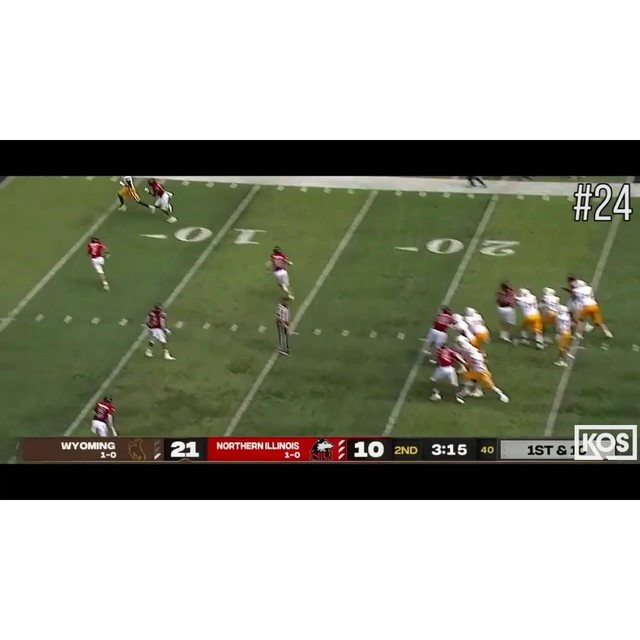american-football-player: (461, 345, 509, 404), (573, 279, 613, 341), (428, 343, 465, 403), (143, 302, 175, 362), (515, 287, 545, 349), (494, 280, 520, 342), (422, 306, 454, 356), (267, 246, 296, 300), (552, 305, 577, 367), (86, 236, 111, 292), (146, 178, 176, 222), (90, 394, 117, 437), (117, 176, 148, 212), (464, 307, 491, 346), (539, 286, 561, 324)
referee: (274, 297, 292, 356)
